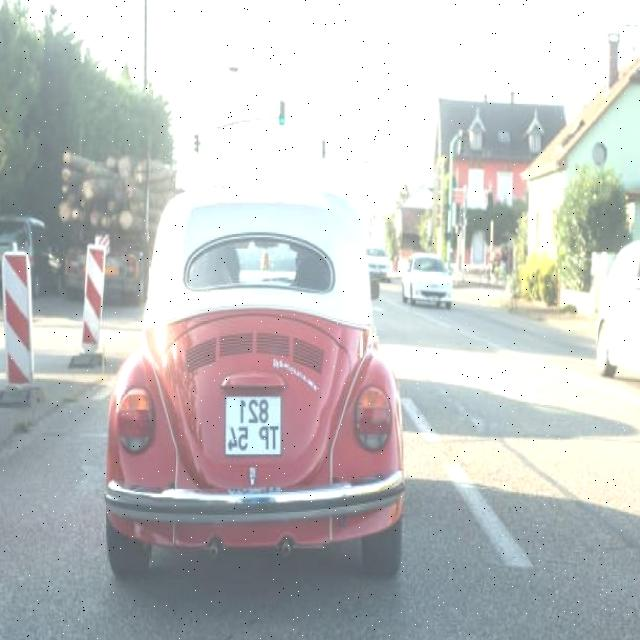car: (105, 182, 386, 568), (598, 254, 640, 380), (400, 251, 456, 307)
